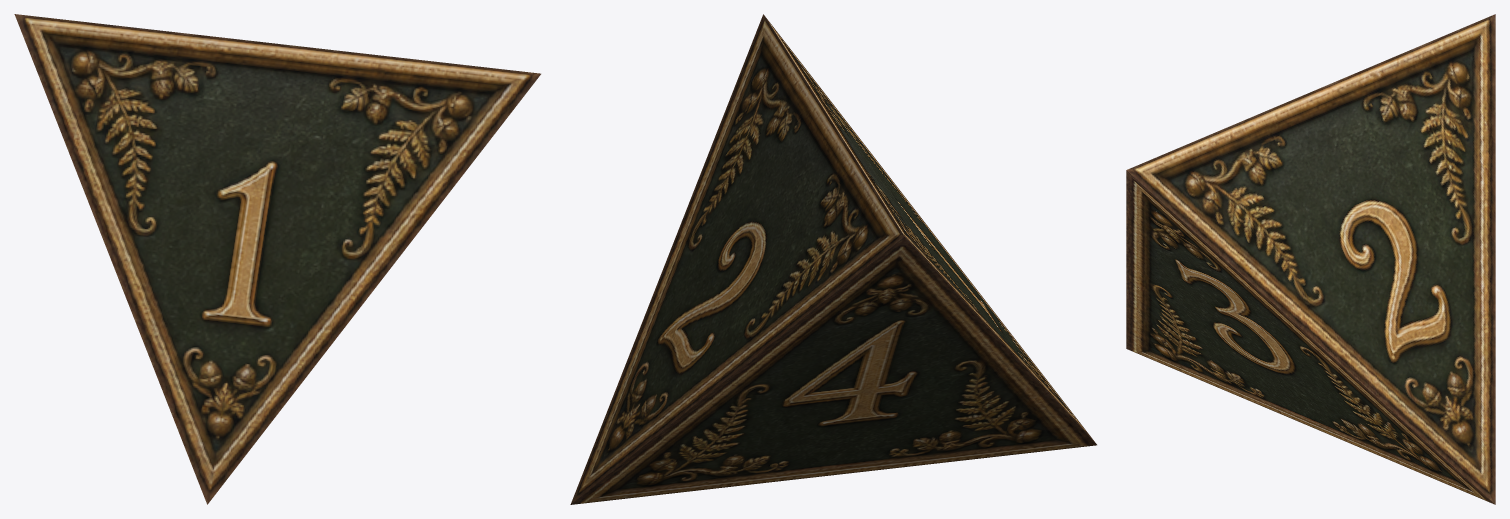
3 views of the same model, side by side, from view 1: azimuth 30°, elevation 25°; view 2: azimuth 150°, elevation 25°; view 3: azimuth 270°, elevation 25° (orthographic). The views are drawn at different scales.
Visible parts, largest first — view 1: Themed_D4; view 2: Themed_D4; view 3: Themed_D4.
Part boxes in pixels (box(x1,y1,x2,y2)): Themed_D4: box(14, 14, 540, 504); Themed_D4: box(570, 14, 1096, 504); Themed_D4: box(1126, 14, 1495, 504).
Bounding box in the file's own units: 0.8314 × 0.8314 × 0.8314.
1 material, 1 textured.
